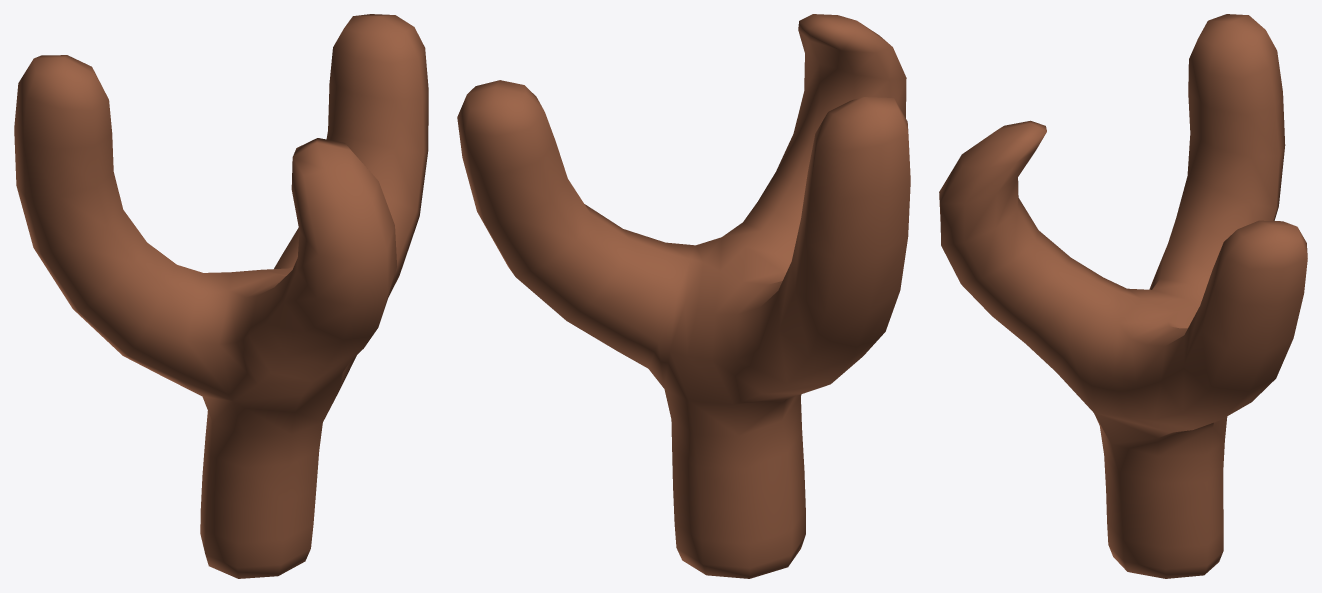
Rendered from Shrub_Btm_B_03.fbx.
The picture shows the model from 3 angles, left to right: view 1: azimuth 30°, elevation 25°; view 2: azimuth 150°, elevation 25°; view 3: azimuth 270°, elevation 25°; orthographic projection. The views are drawn at different scales.
Visible parts, largest first — view 1: Shrub_Btm_B_03_LOD0; view 2: Shrub_Btm_B_03_LOD0; view 3: Shrub_Btm_B_03_LOD0.
Part boxes in pixels (box(x1,y1,x2,y2)): Shrub_Btm_B_03_LOD0: box(14, 14, 428, 578); Shrub_Btm_B_03_LOD0: box(457, 14, 910, 578); Shrub_Btm_B_03_LOD0: box(939, 14, 1307, 578).
Size of what is drawn, in the model's own units: 298 by 354 by 250.
